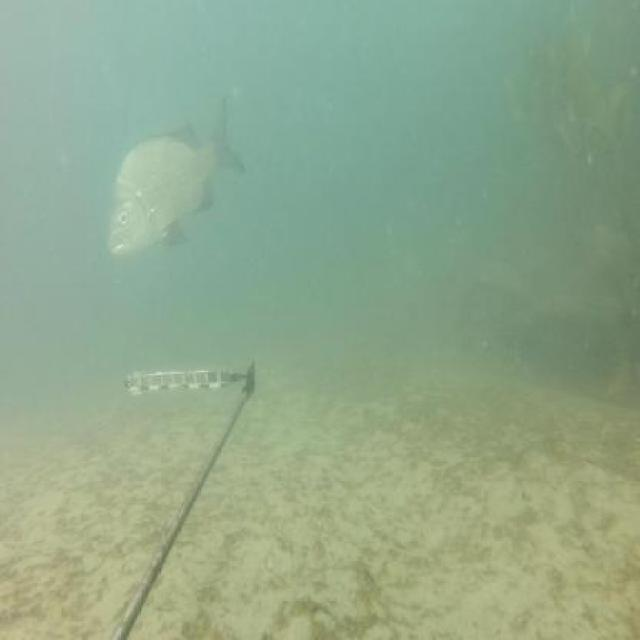acanthopagrus_palmaris: (106, 91, 251, 262)
